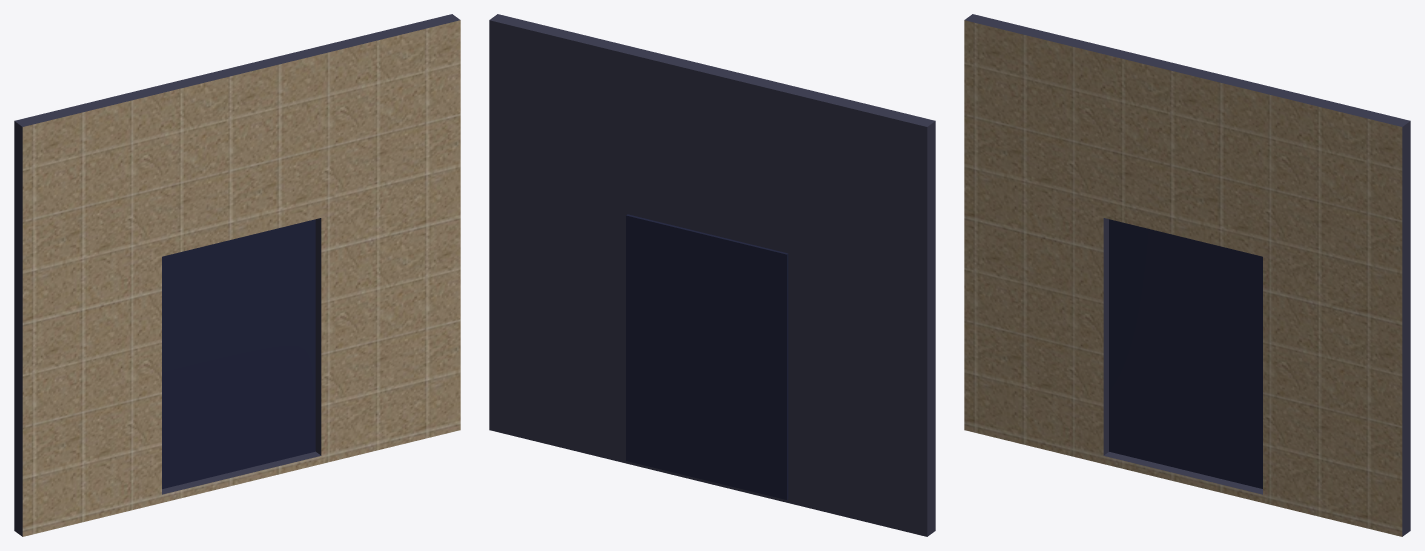
The model's file is Door_Bathroom.fbx.
The picture shows the model from 3 angles, left to right: view 1: azimuth 30°, elevation 25°; view 2: azimuth 150°, elevation 25°; view 3: azimuth 330°, elevation 25°; orthographic projection.
Visible parts, largest first — view 1: Door_Bathroom, Door_Bathroom.001; view 2: Door_Bathroom, Door_Bathroom.001; view 3: Door_Bathroom, Door_Bathroom.001.
Boxes of the visible parts, left/top/right/bottom form: Door_Bathroom: left=14, top=14, right=460, bottom=536; Door_Bathroom.001: left=162, top=219, right=315, bottom=488; Door_Bathroom: left=489, top=14, right=935, bottom=536; Door_Bathroom.001: left=626, top=214, right=788, bottom=499; Door_Bathroom: left=964, top=14, right=1410, bottom=536; Door_Bathroom.001: left=1109, top=219, right=1262, bottom=488.
Bounding box in the file's own units: 702 × 628 × 27.98.
